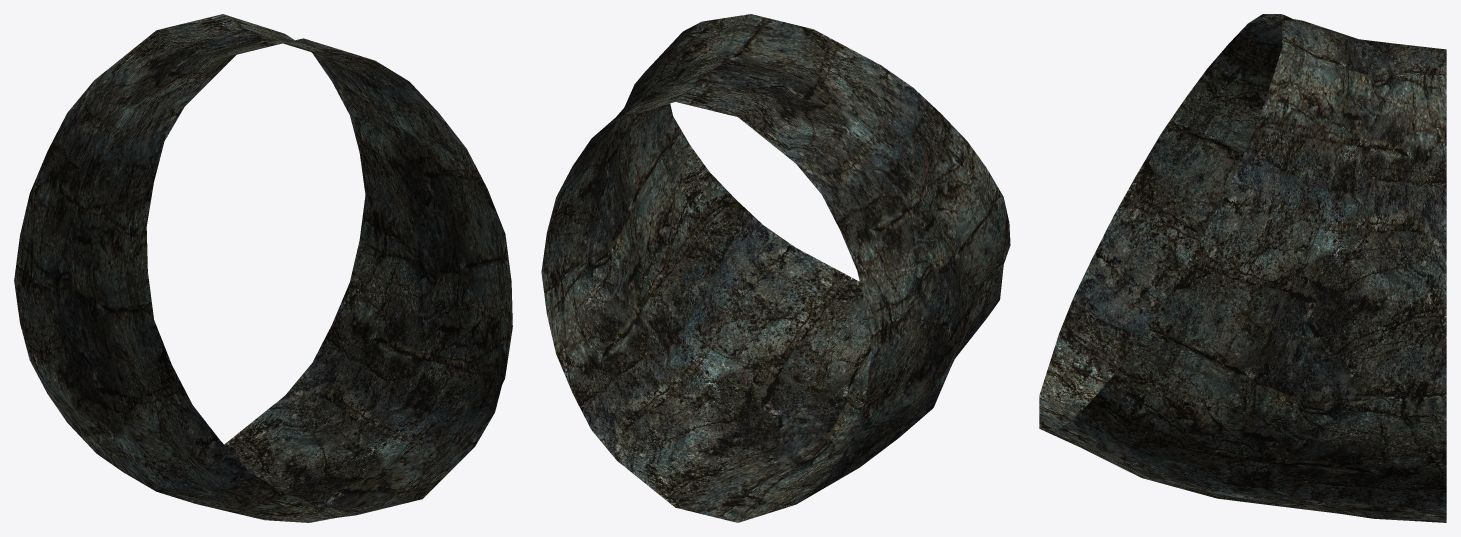
Rendered from tunnel_theta_turn_vertical_short.dae.
3 renders of one model, left to right at view 1: azimuth 30°, elevation 25°; view 2: azimuth 150°, elevation 25°; view 3: azimuth 270°, elevation 25°, orthographic. The views are drawn at different scales.
Visible parts, largest first — view 1: tunnel_turn_vertical_short; view 2: tunnel_turn_vertical_short; view 3: tunnel_turn_vertical_short.
Part boxes in pixels (left/top/right/bottom): tunnel_turn_vertical_short: left=14, top=14, right=512, bottom=522; tunnel_turn_vertical_short: left=541, top=14, right=1010, bottom=522; tunnel_turn_vertical_short: left=1039, top=14, right=1446, bottom=522.
Bounding box in the file's own units: 4.5 × 5.51 × 4.28.
